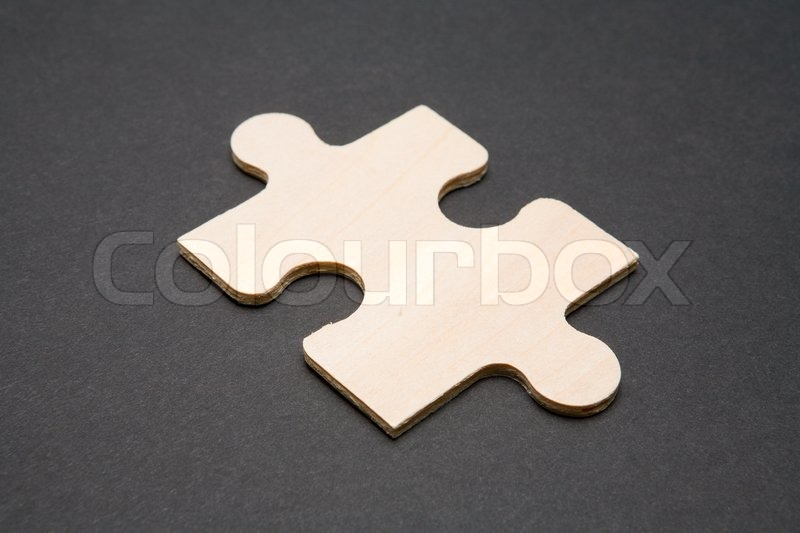puzzle piece: (161, 65, 658, 469)
